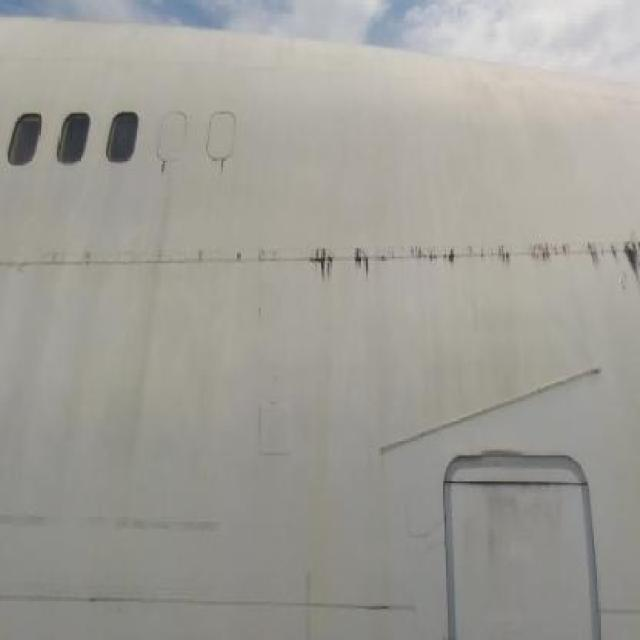Rust: (291, 220, 640, 320), (376, 460, 401, 634), (158, 154, 168, 178), (219, 153, 226, 179)
Scartch: (1, 498, 228, 550), (472, 486, 580, 583)
